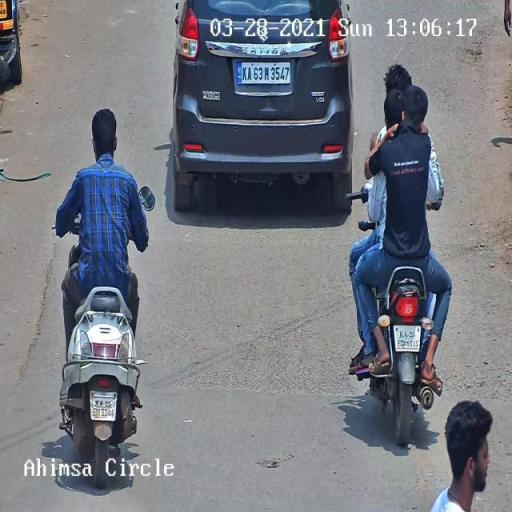tripple riding: (344, 60, 447, 264)
